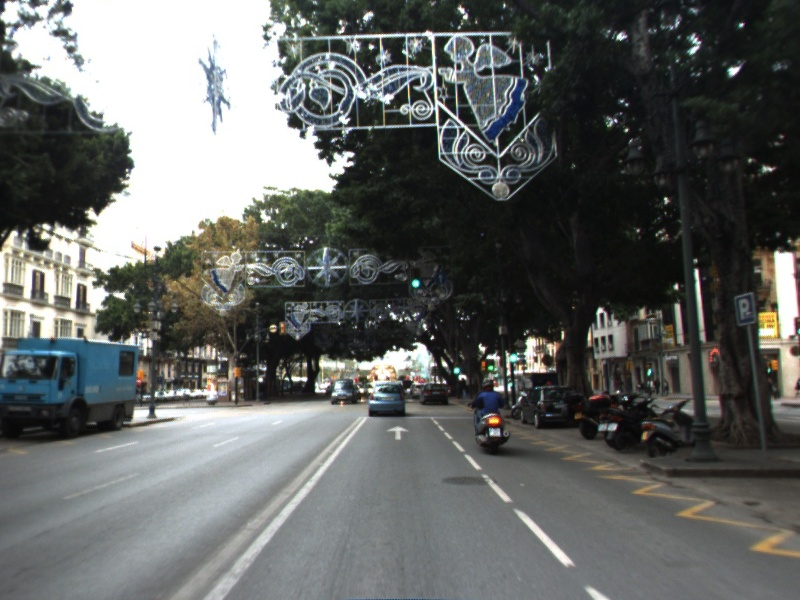STRAIGHT: (384, 423, 411, 442)
